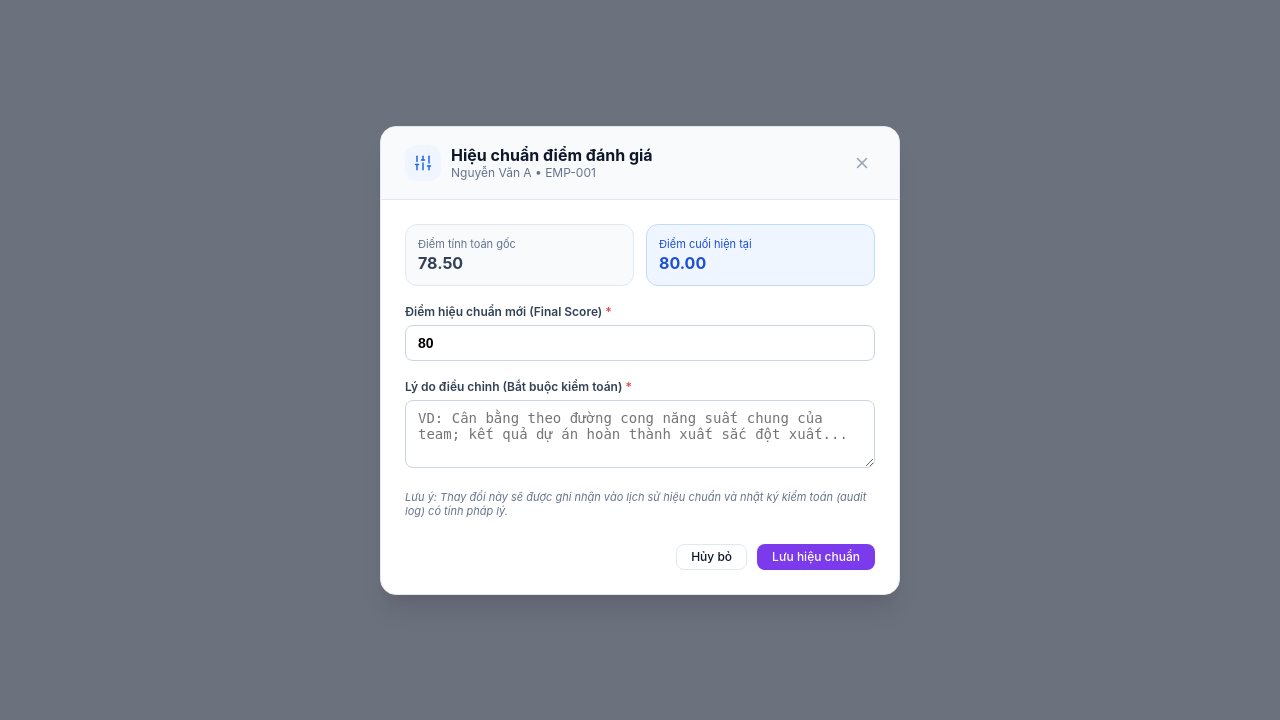
it: CalibrationAdjustmentModal Component › validates score range [0, 100]
Replace the text in the number field labelled "Điểm hiệu chuẩn mới (Final Score) *" with "105" at x=640, y=342, box [405, 324, 875, 360]
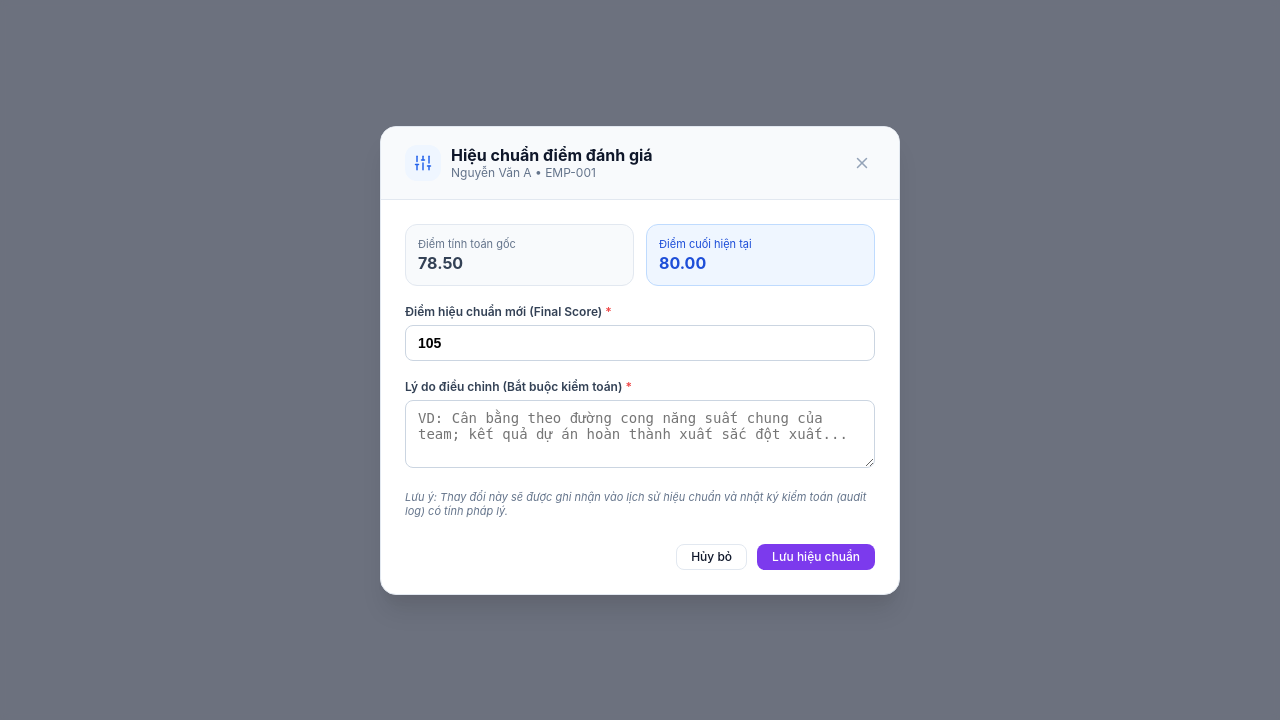
Replace the text in the text box labelled "Lý do điều chỉnh (Bắt buộc kiểm toán) *" with "Demonstrated outstanding cross-functional leadership" at x=640, y=434, box [405, 400, 875, 468]
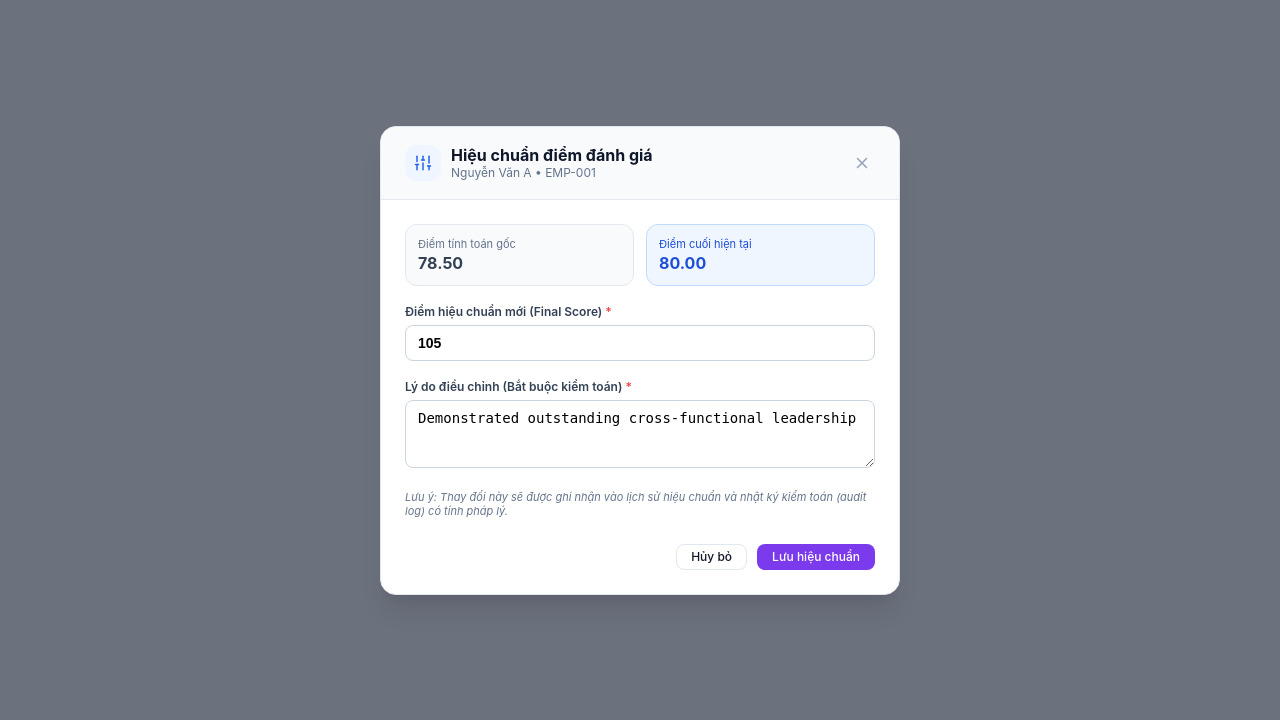
Submit the form named "Lưu hiệu chuẩn", box [381, 200, 899, 594]
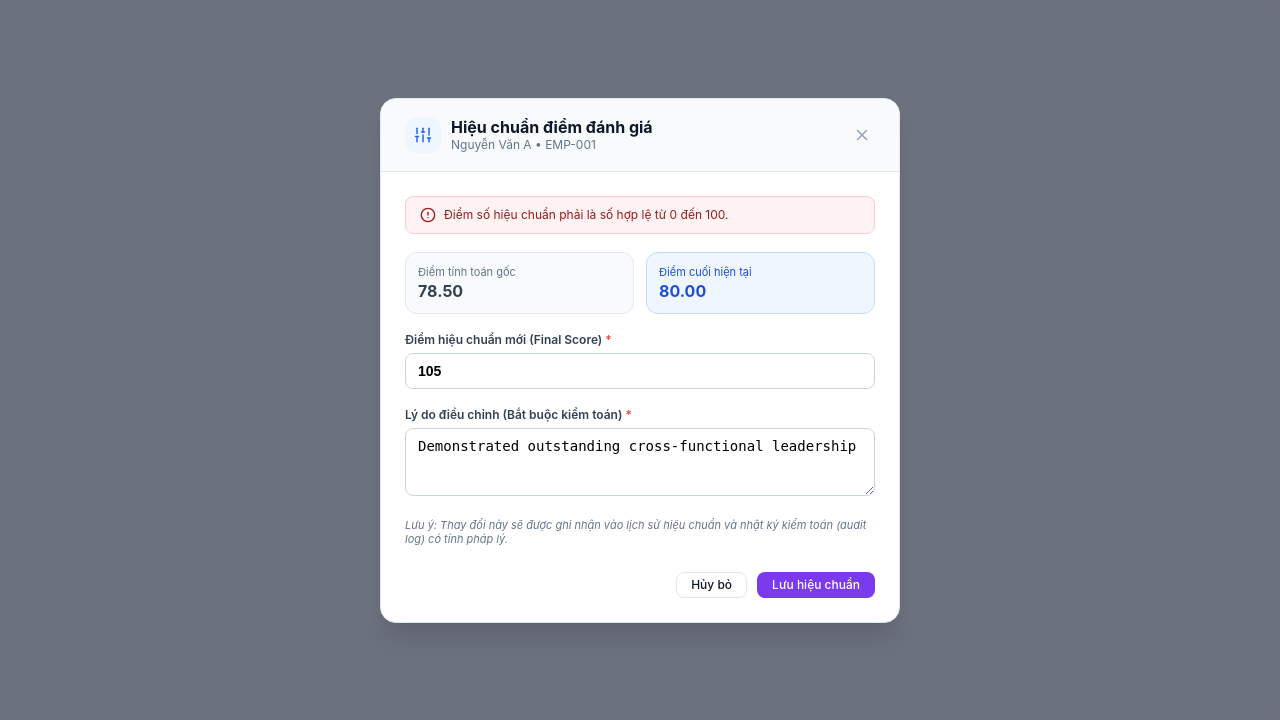
Result: the text "Điểm số hiệu chuẩn phải là số hợp lệ từ 0 đến 100." is shown at [444, 207, 728, 222]
